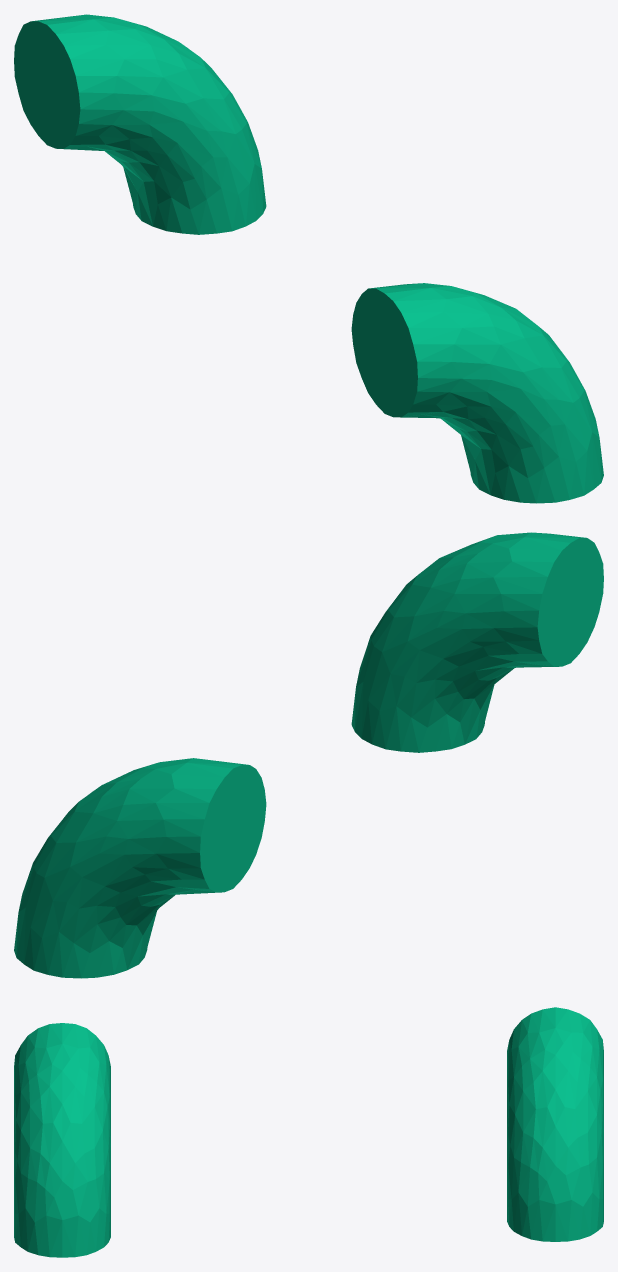
3 renders of one model, top to bottom at view 1: azimuth 30°, elevation 25°; view 2: azimuth 150°, elevation 25°; view 3: azimuth 270°, elevation 25°, orthographic. The views are drawn at different scales.
Size of the model in its own units: 0.2088 by 0.2293 by 0.6974.
